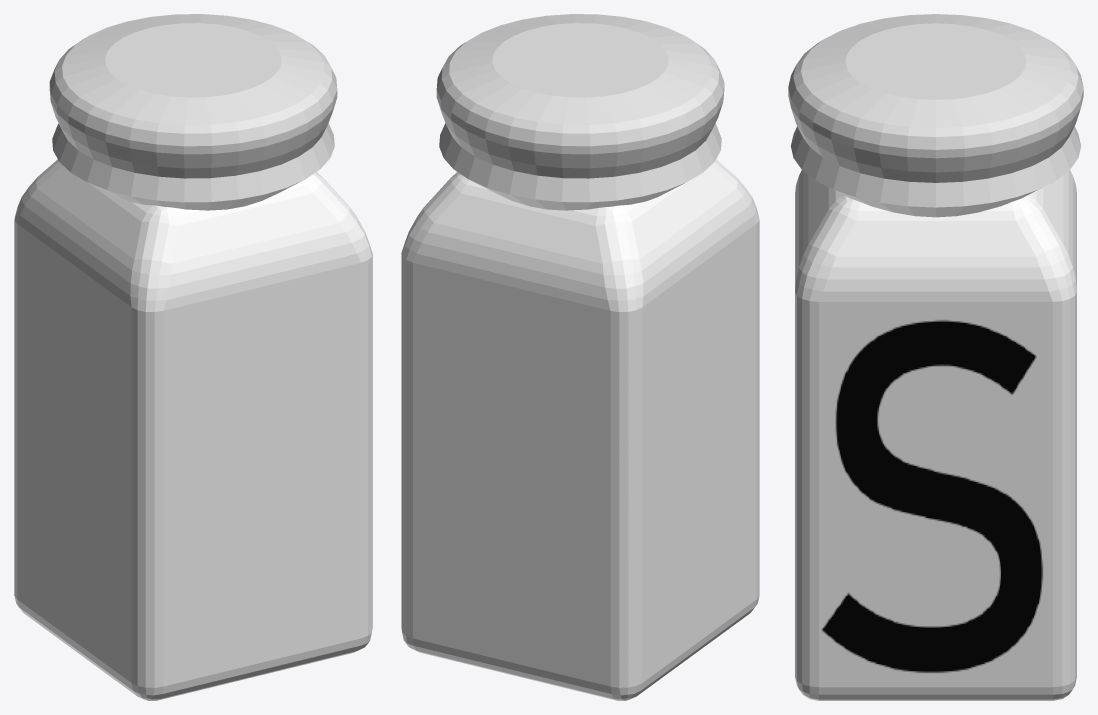
The model's file is Salt Shaker.fbx.
The picture shows the model from 3 angles, left to right: view 1: azimuth 30°, elevation 25°; view 2: azimuth 150°, elevation 25°; view 3: azimuth 270°, elevation 25°; orthographic projection. The views are drawn at different scales.
Parts seen in each view (by area): view 1: Cube; view 2: Cube; view 3: Cube.
Boxes of the visible parts, x1,y1,x2,y2 form: Cube: (14, 14, 372, 700); Cube: (401, 14, 759, 700); Cube: (788, 14, 1083, 700).
Bounding box in the file's own units: 10.48 × 23 × 10.48.
